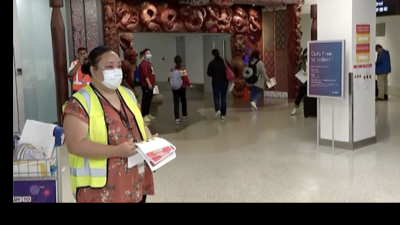with_mask: (96, 58, 125, 90), (146, 50, 152, 58)
